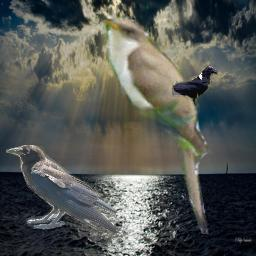Crow: (6, 145, 116, 233), (172, 65, 218, 106)
Cuckoo: (91, 10, 213, 238)
